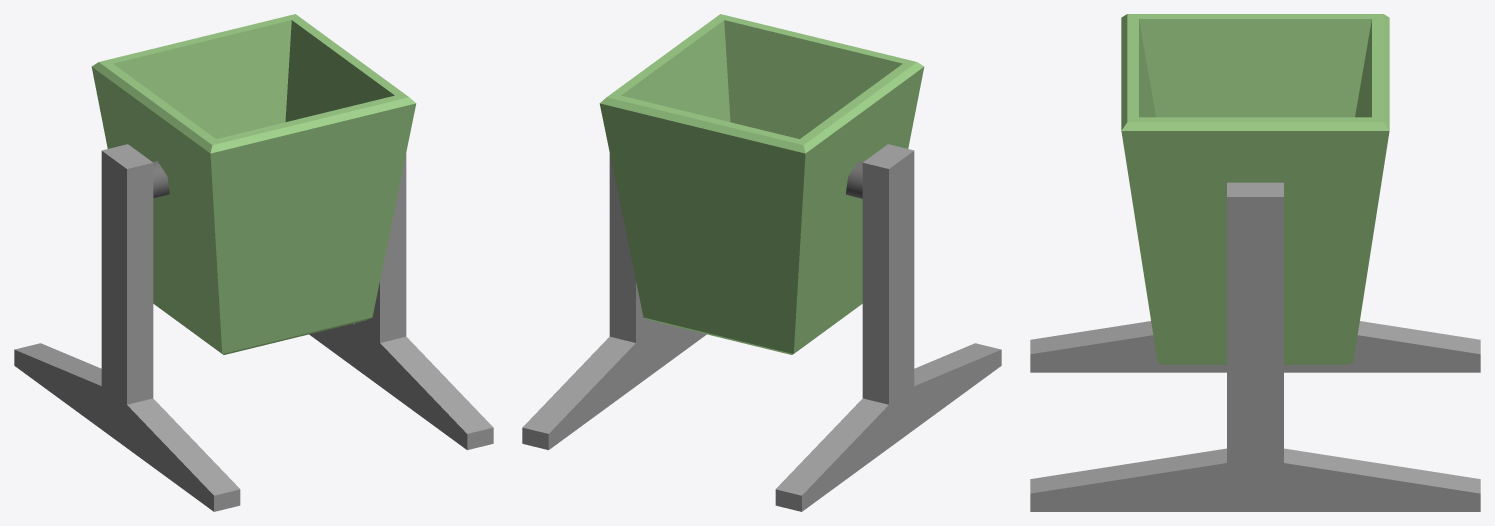
The model's file is street_props_outside_urn_3.fbx.
3 views of the same model, side by side, from view 1: azimuth 30°, elevation 25°; view 2: azimuth 150°, elevation 25°; view 3: azimuth 270°, elevation 25° (orthographic). The views are drawn at different scales.
Visible parts, largest first — view 1: urn_3; view 2: urn_3; view 3: urn_3.
Part boxes in pixels (left/top/right/bottom): urn_3: left=14, top=14, right=493, bottom=511; urn_3: left=522, top=14, right=1001, bottom=511; urn_3: left=1030, top=14, right=1480, bottom=511.
Size of the model in its own units: 32.05 by 35.64 by 39.67.
